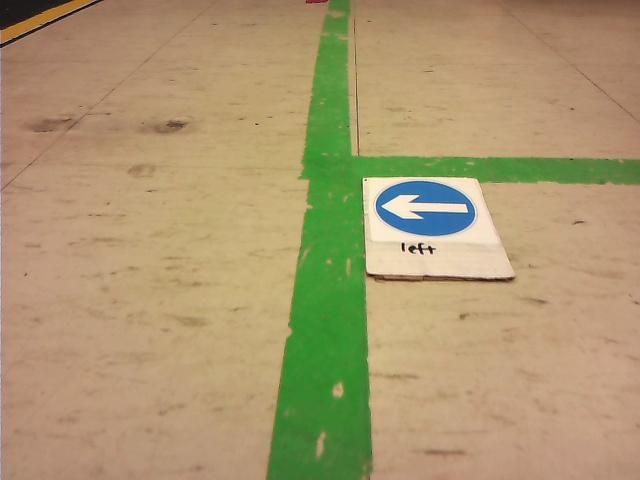TURN LEFT: (375, 181, 476, 236)
